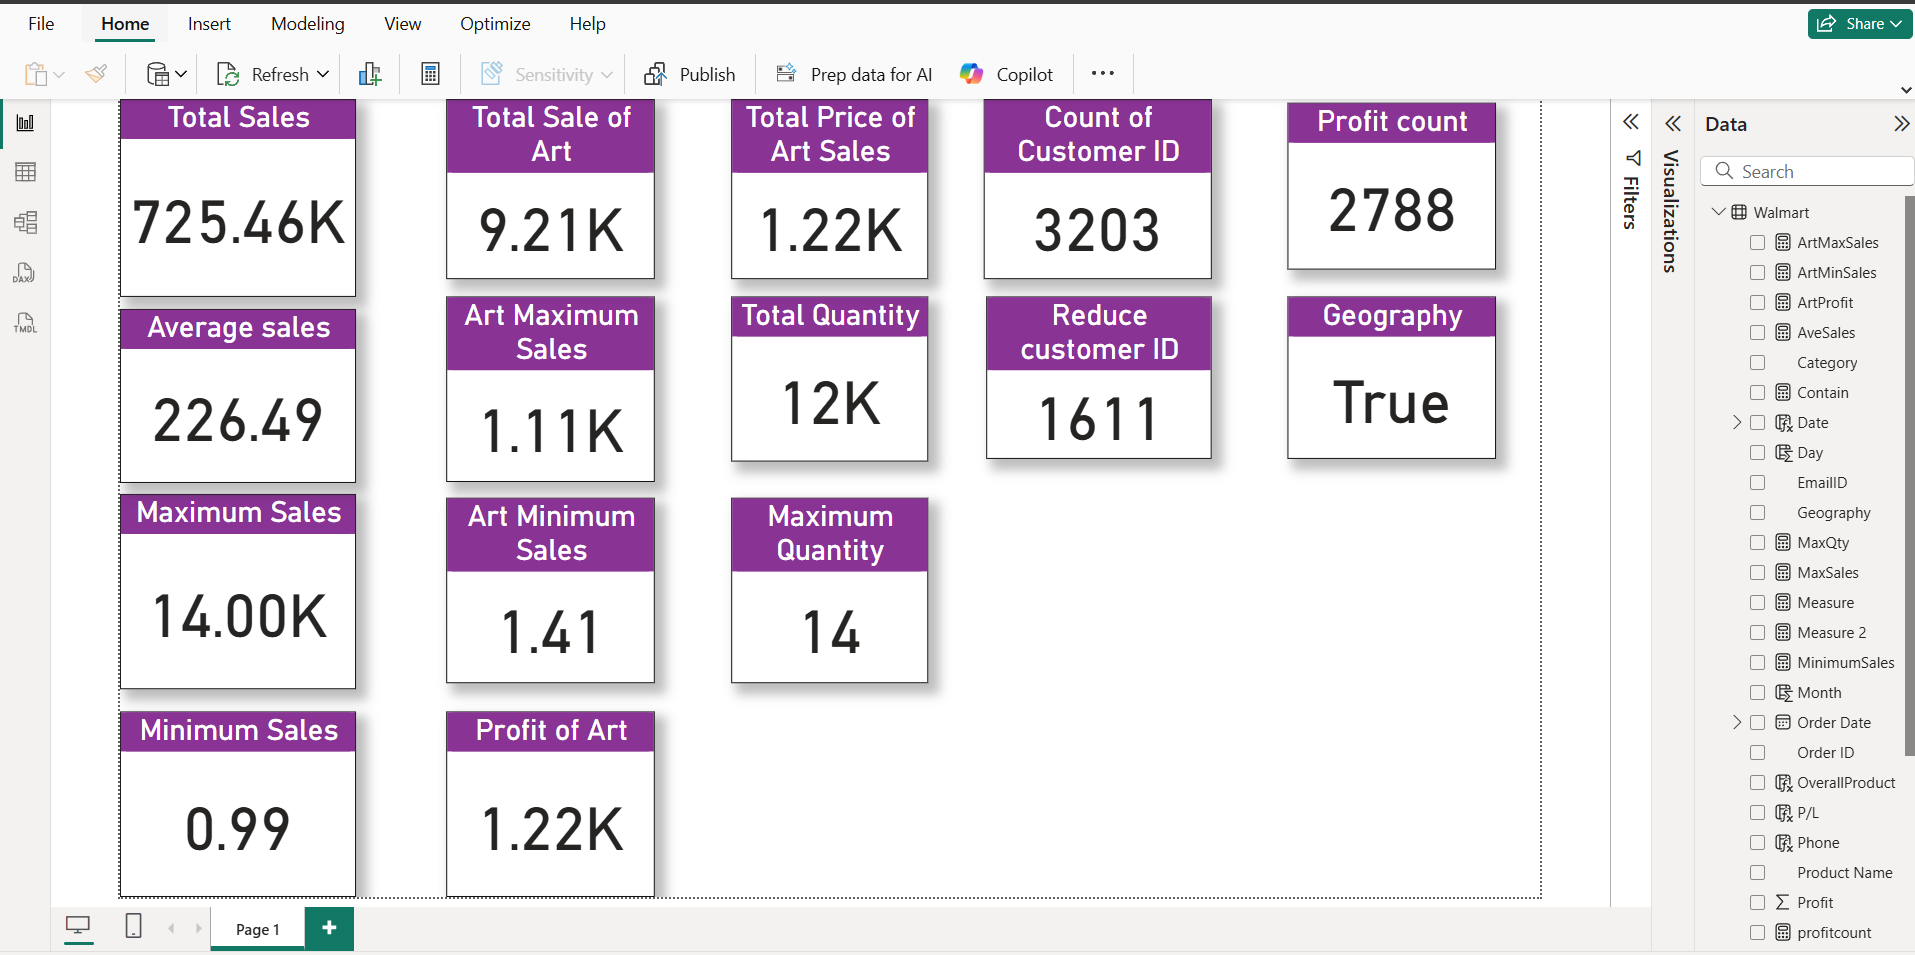

Layout of this report page (visuals, bound fields, positions):
{"tool":"powerbi","page":{"name":"Page 1","canvas":[1280,720],"ordinal":0},"visuals":[{"type":"card","title":"Maximum Sales","fields":{"Values":["Walmart.MaxSales"]},"box":[0,355.8,212.8,176.1],"z":0},{"type":"card","title":"Total Sales","fields":{"Values":["Sum(Walmart.Sales)"]},"box":[0,0,212.8,178.5],"z":1000},{"type":"card","title":"Minimum Sales","fields":{"Values":["Walmart.MinimumSales"]},"box":[0,552.7,212.8,167.5],"z":2000},{"type":"card","title":"Art Maximum Sales","fields":{"Values":["Walmart.ArtMaxSales"]},"box":[294.7,178.5,188.3,167.5],"z":3000},{"type":"card","title":"Art Minimum Sales","fields":{"Values":["Walmart.ArtMinSales"]},"box":[294.7,359.5,188.3,167.5],"z":4000},{"type":"card","title":"Total Sale of Art","fields":{"Values":["Walmart.TotalArtSales"]},"box":[294.7,0,188.3,162.6],"z":5000},{"type":"card","title":"Profit of Art","fields":{"Values":["Walmart.ArtProfit"]},"box":[294.7,552.7,188.3,167.5],"z":6000},{"type":"card","title":"Total Quantity","fields":{"Values":["Sum(Walmart.Quantity)"]},"box":[551.5,178.5,177.3,149.2],"z":7000},{"type":"card","title":"Maximum Quantity","fields":{"Values":["Walmart.MaxQty"]},"box":[551.5,359.5,177.3,167.5],"z":8000},{"type":"card","title":"Count of Customer ID","fields":{"Values":["Walmart.TotalID"]},"box":[778.9,0,205.4,162.6],"z":9000},{"type":"card","title":"Reduce customer ID","fields":{"Values":["Walmart.specCusID"]},"box":[781.4,178.5,203,146.7],"z":10000},{"type":"card","title":"Average sales","fields":{"Values":["Walmart.AveSales"]},"box":[0,189.5,212.8,156.5],"z":11000},{"type":"card","title":"Total Price of Art Sales","fields":{"Values":["Walmart.TotalPriceOfArt"]},"box":[551.5,0,177.3,162.6],"z":12000},{"type":"card","title":"Profit count","fields":{"Values":["Walmart.profitcount"]},"box":[1052.9,3.7,188.3,150.4],"z":13000},{"type":"card","title":"Geography","fields":{"Values":["Walmart.Contain"]},"box":[1052.9,178.5,188.3,146.7],"z":14000}]}

Visuals, with their boxes on the page's 1280x720 design canvas (x1, y1, x2, y2). These are canvas units, not pixel positions in the 1915x955 screenshot, which may show the page scaled, cropped or inside an application window:
"Maximum Sales" card: 0/356/213/532
"Total Sales" card: 0/0/213/178
"Minimum Sales" card: 0/553/213/720
"Art Maximum Sales" card: 295/178/483/346
"Art Minimum Sales" card: 295/360/483/527
"Total Sale of Art" card: 295/0/483/163
"Profit of Art" card: 295/553/483/720
"Total Quantity" card: 552/178/729/328
"Maximum Quantity" card: 552/360/729/527
"Count of Customer ID" card: 779/0/984/163
"Reduce customer ID" card: 781/178/984/325
"Average sales" card: 0/190/213/346
"Total Price of Art Sales" card: 552/0/729/163
"Profit count" card: 1053/4/1241/154
"Geography" card: 1053/178/1241/325
